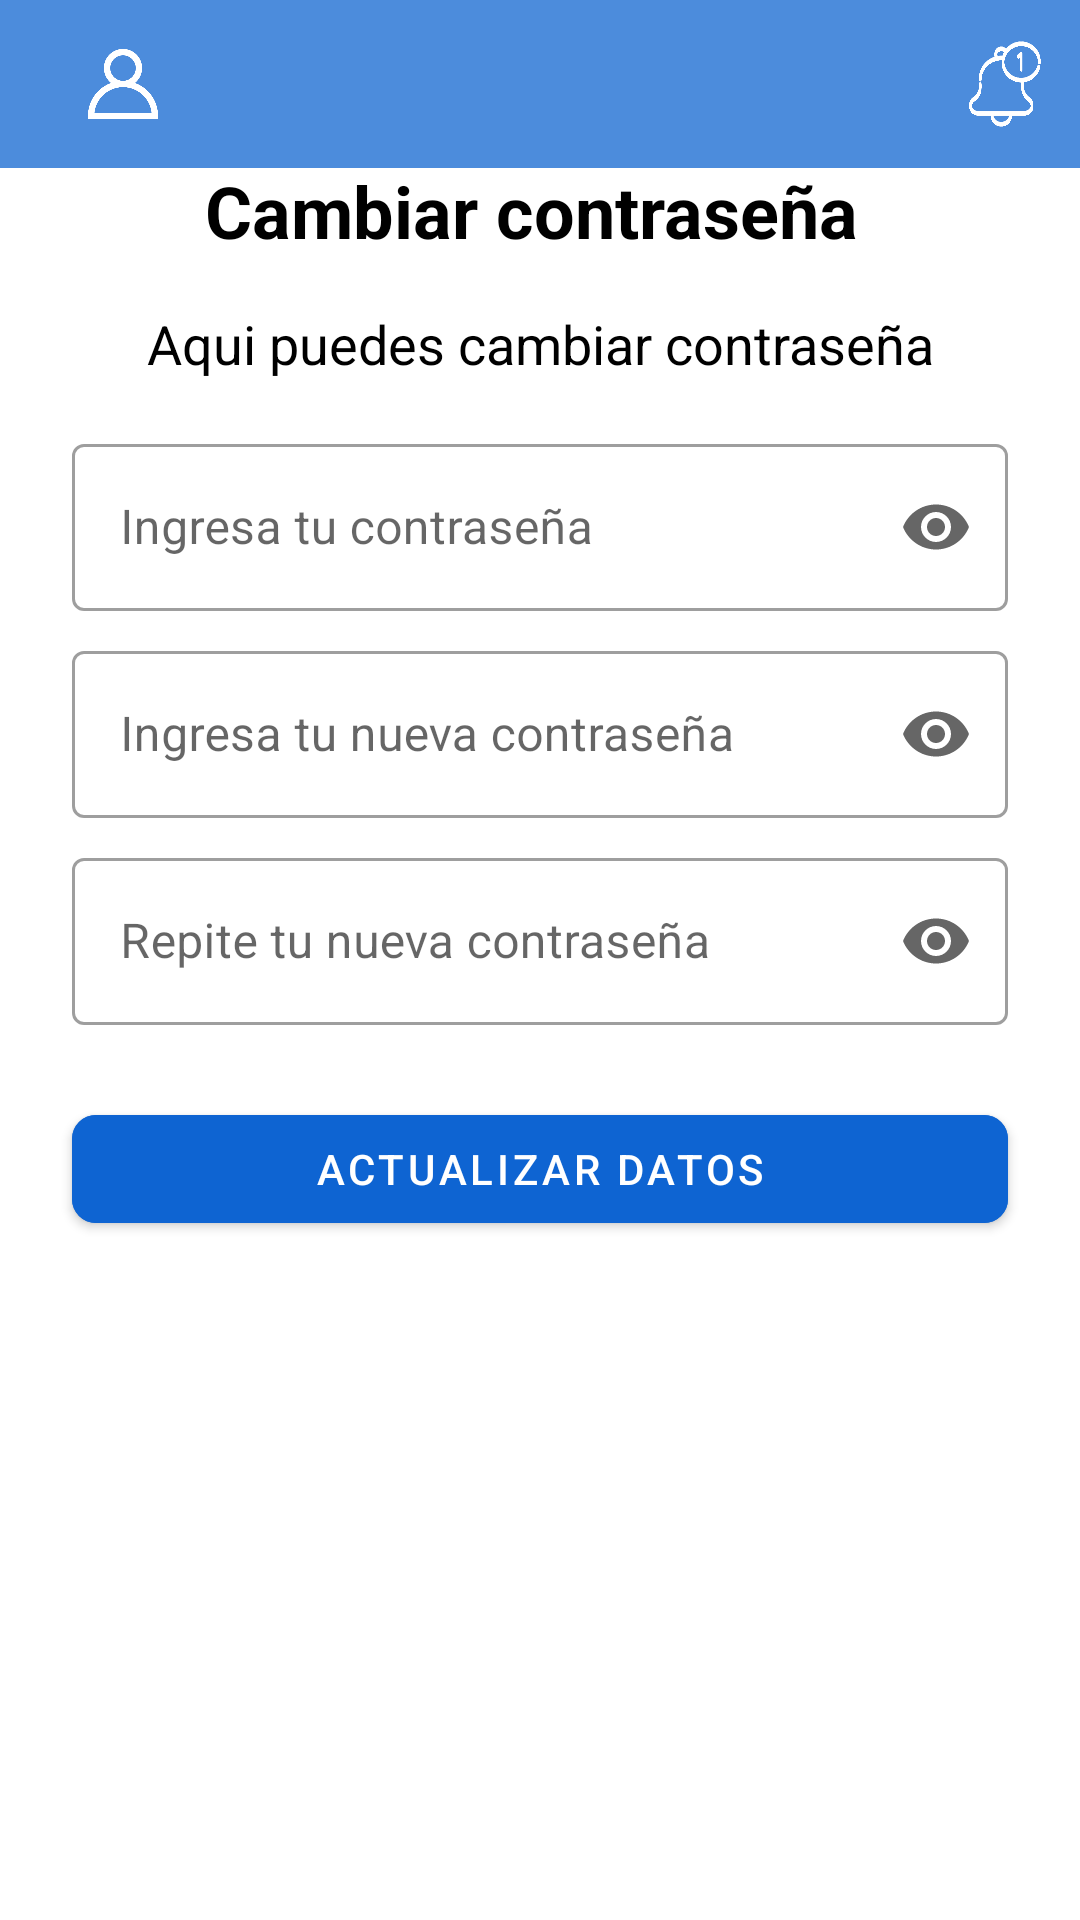

Where icons sit on this 1080x1920 app screen, as (x1, y1, x2, y2):
Notification Icon: (969, 41, 1041, 127)
User Icon: (88, 49, 158, 119)
